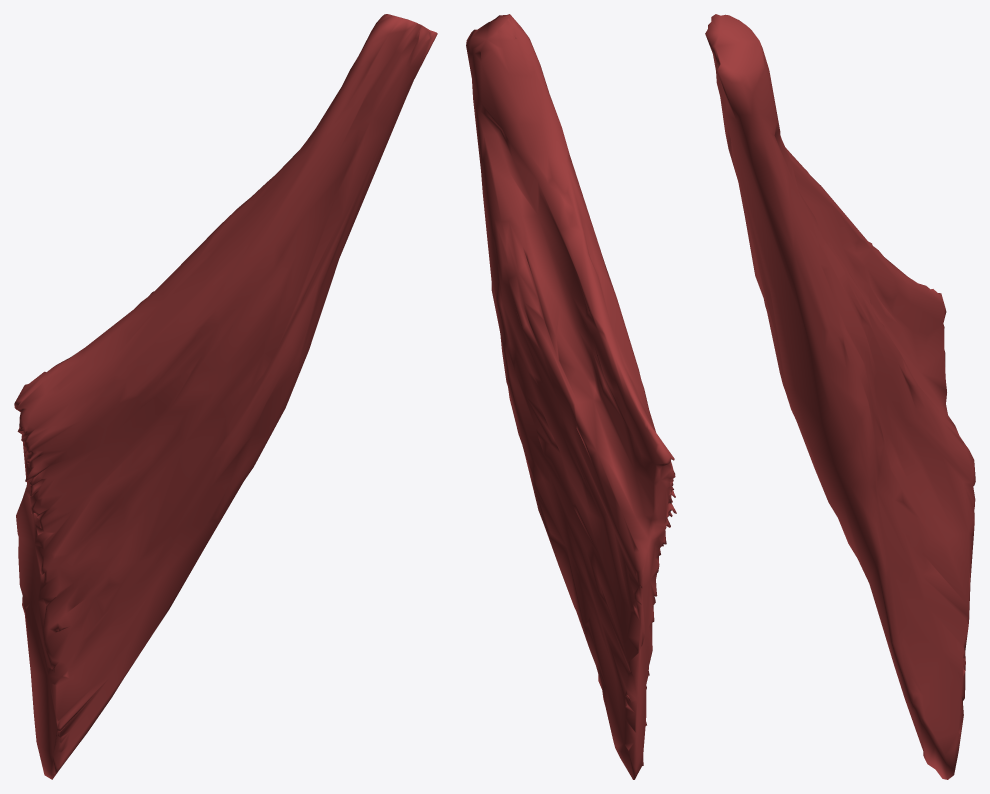
Rendered from adductor-brevis-r.glb.
The picture shows the model from 3 angles, left to right: view 1: azimuth 30°, elevation 25°; view 2: azimuth 150°, elevation 25°; view 3: azimuth 270°, elevation 25°; orthographic projection. The views are drawn at different scales.
Visible parts, largest first — view 1: Adductor brevis.r; view 2: Adductor brevis.r; view 3: Adductor brevis.r.
Part boxes in pixels (x1,y1,x2,y2): Adductor brevis.r: (14,14,437,779); Adductor brevis.r: (466,14,676,779); Adductor brevis.r: (705,14,975,779).
Size of the model in its own units: 0.079 by 0.1763 by 0.0478.
